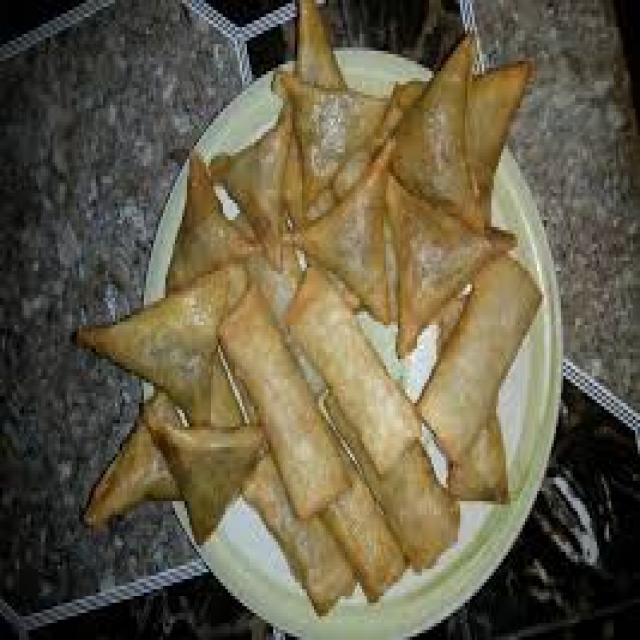Samosa: (158, 17, 506, 295), (77, 291, 242, 525)
Spring Rolls: (232, 298, 518, 579)
